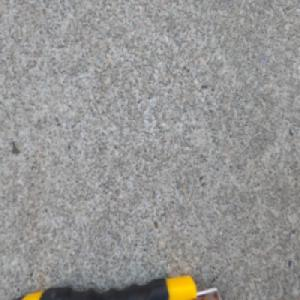Cutter: (10, 272, 225, 300)
